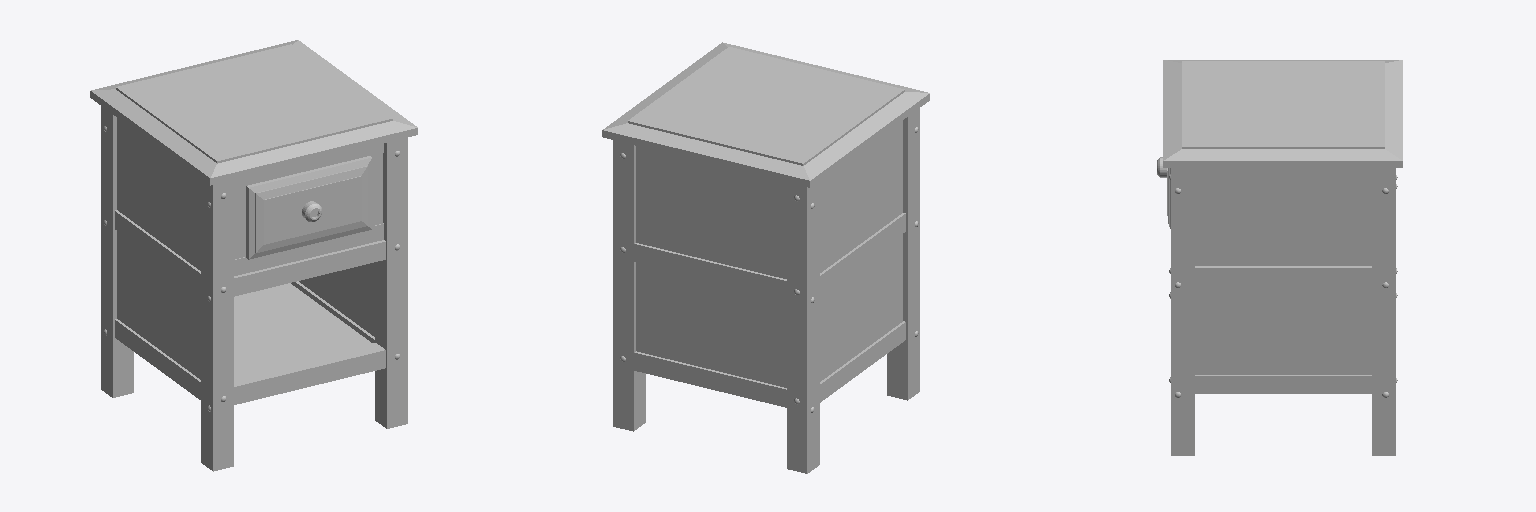
File: chevet.obj
3 renders of one model, left to right at view 1: azimuth 30°, elevation 25°; view 2: azimuth 150°, elevation 25°; view 3: azimuth 270°, elevation 25°, orthographic.
Parts seen in each view (by area): view 1: Drawer_top_Cube.004, Leg_Cube.002, Side_walls_Cube.005, Truss__Cube.017, Door_Cube.013, Base_2_Cube.016, truss_2_Cube.010, truss_3_Cube.007; view 2: Side_walls_Cube.005, Drawer_top_Cube.004, Leg_Cube.002, Truss__Cube.017; view 3: Side_walls_Cube.005, Drawer_top_Cube.004, Leg_Cube.002, Truss__Cube.017.
Boxes of the visible parts, box(x1,y1,x2,y2) form: Drawer_top_Cube.004: box(90, 40, 417, 185); Leg_Cube.002: box(101, 106, 407, 471); Side_walls_Cube.005: box(117, 118, 374, 379); Truss__Cube.017: box(115, 210, 385, 404); Door_Cube.013: box(246, 156, 371, 259); Base_2_Cube.016: box(234, 283, 372, 376); truss_2_Cube.010: box(234, 143, 383, 275); truss_3_Cube.007: box(234, 153, 382, 259); Side_walls_Cube.005: box(636, 121, 902, 387); Drawer_top_Cube.004: box(602, 42, 929, 187); Leg_Cube.002: box(613, 108, 919, 473); Truss__Cube.017: box(634, 213, 905, 407); Side_walls_Cube.005: box(1195, 168, 1371, 374); Drawer_top_Cube.004: box(1163, 60, 1402, 167); Leg_Cube.002: box(1171, 168, 1395, 455); Truss__Cube.017: box(1195, 266, 1371, 393).
Size of the model in its own units: 2.39 by 3.34 by 2.46.